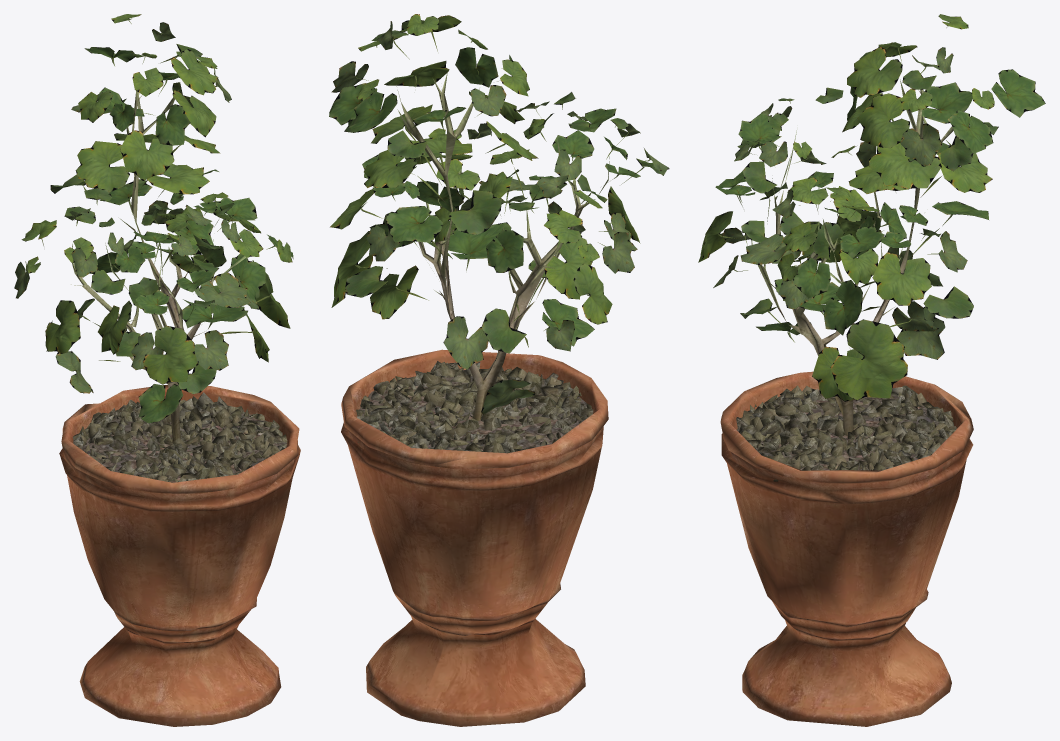
3 renders of one model, left to right at view 1: azimuth 30°, elevation 25°; view 2: azimuth 150°, elevation 25°; view 3: azimuth 270°, elevation 25°, orthographic. The views are drawn at different scales.
Visible parts, largest first — view 1: potted_plant_01_stem, potted_plant_01_leaves; view 2: potted_plant_01_stem, potted_plant_01_leaves; view 3: potted_plant_01_stem, potted_plant_01_leaves.
Part boxes in pixels (x1=…): potted_plant_01_stem: x1=59, y1=90, x2=300, y2=726; potted_plant_01_leaves: x1=14, y1=14, x2=293, y2=423; potted_plant_01_stem: x1=341, y1=72, x2=609, y2=726; potted_plant_01_leaves: x1=329, y1=14, x2=669, y2=414; potted_plant_01_stem: x1=720, y1=79, x2=973, y2=726; potted_plant_01_leaves: x1=698, y1=14, x2=1045, y2=401.
Size of the model in its own units: 0.5866 by 1.33 by 0.6336.
2 materials, 2 textured.
